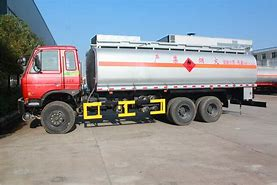oil truck: (18, 27, 263, 131)
